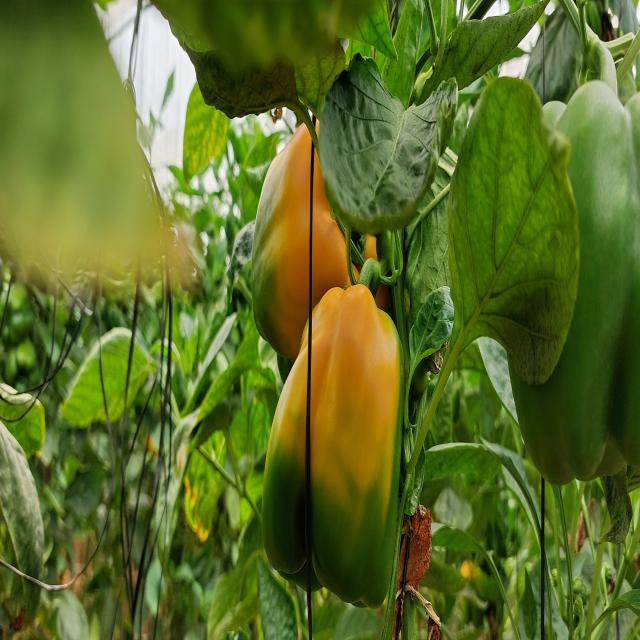Green--Not-ready-to-harvest: (481, 95, 640, 460)
GreenishYellow--Can-be-Harvested: (260, 304, 420, 613), (220, 66, 380, 304)
